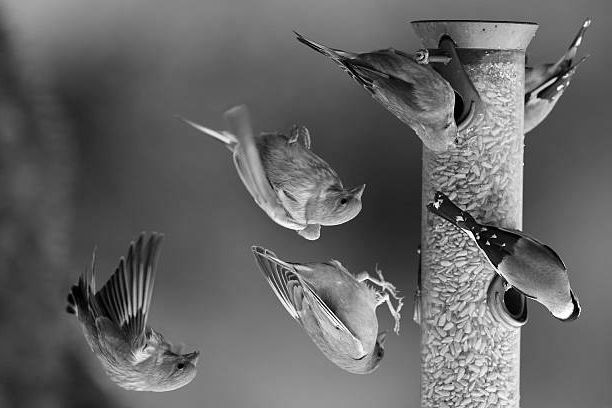Bird: (175, 102, 367, 245), (61, 229, 202, 397), (289, 29, 465, 154), (425, 187, 584, 325), (246, 244, 405, 377), (525, 16, 595, 134)
